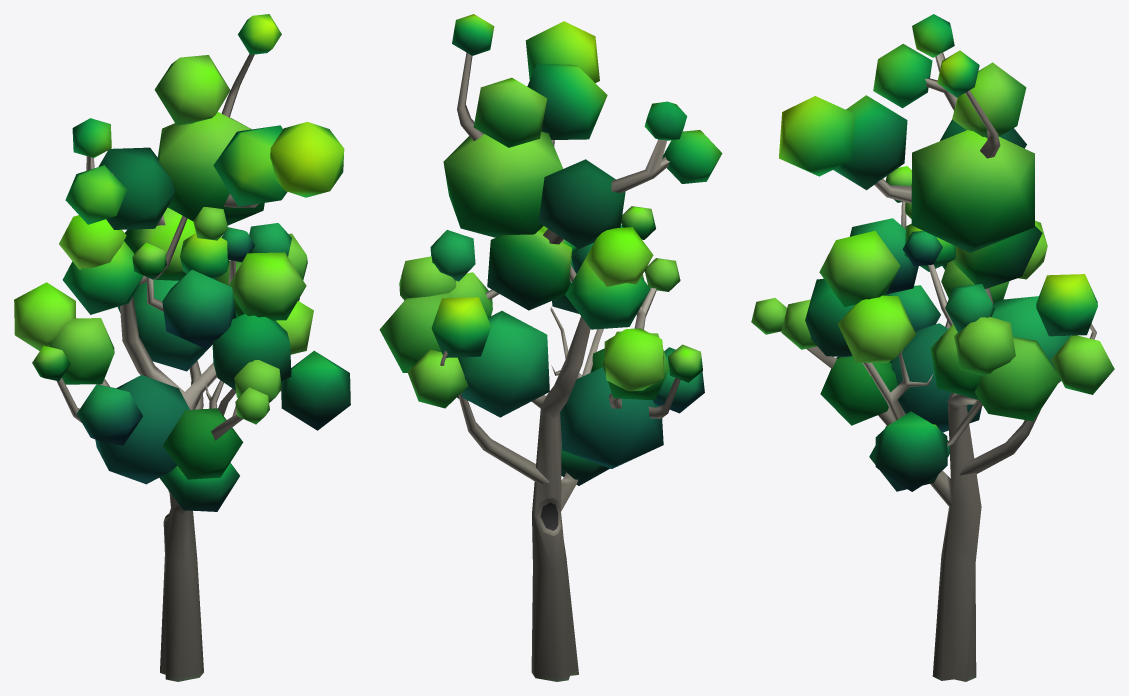
The model's file is Tree_1K.fbx.
The picture shows the model from 3 angles, left to right: view 1: azimuth 30°, elevation 25°; view 2: azimuth 150°, elevation 25°; view 3: azimuth 270°, elevation 25°; orthographic projection. The views are drawn at different scales.
Visible parts, largest first — view 1: Tree_1K; view 2: Tree_1K; view 3: Tree_1K.
Part boxes in pixels (x1,y1,x2,y2): Tree_1K: (14,14,350,681); Tree_1K: (379,14,722,681); Tree_1K: (751,14,1114,681).
Bounding box in the file's own units: 573 × 1189 × 594.
